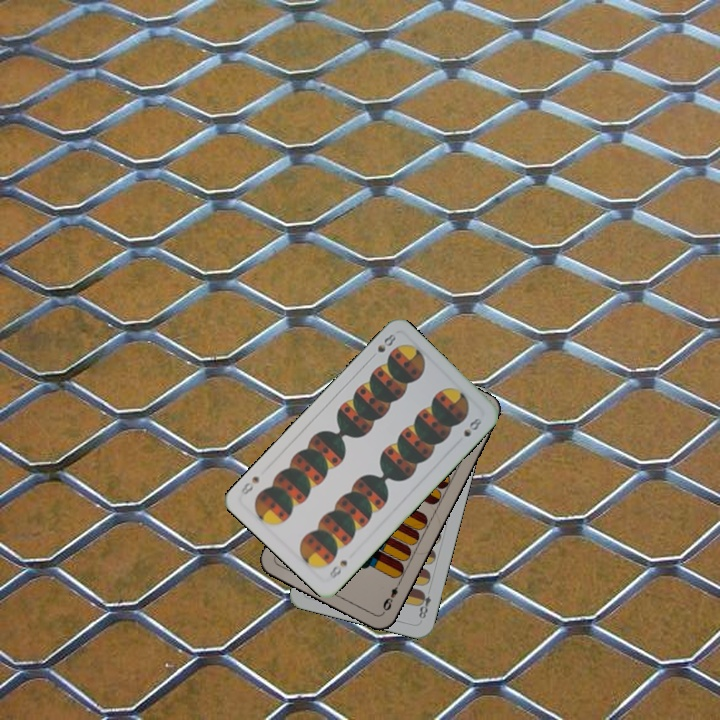E8: (414, 587, 434, 623)
E9: (379, 577, 403, 613)
S8: (367, 330, 398, 362), (326, 556, 350, 582)
